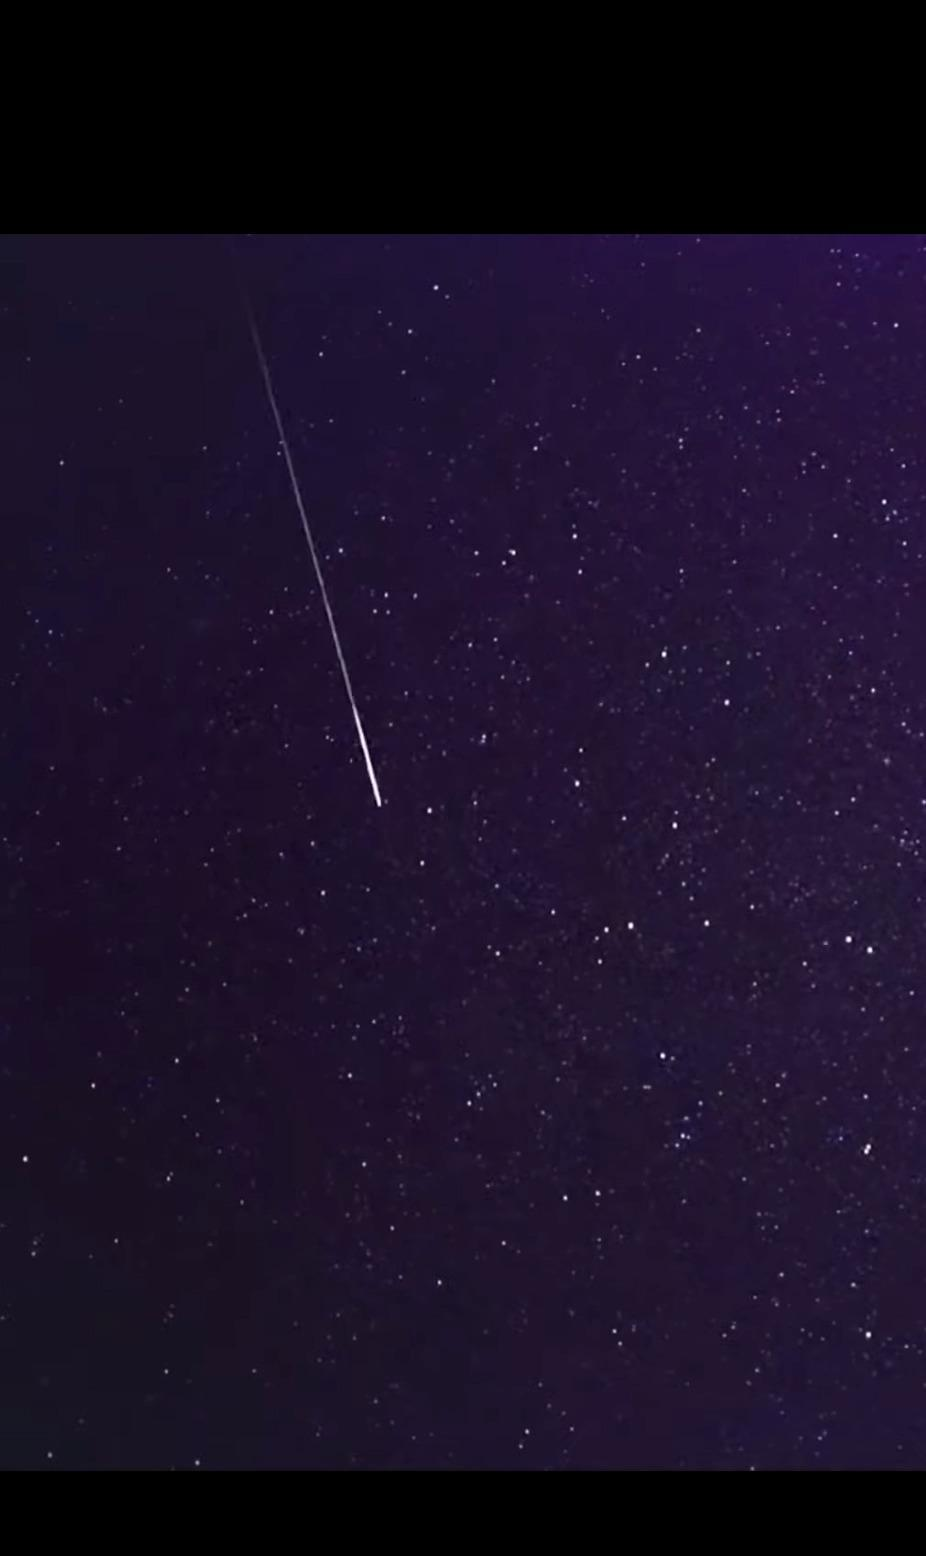meteorite: (187, 261, 408, 874)
